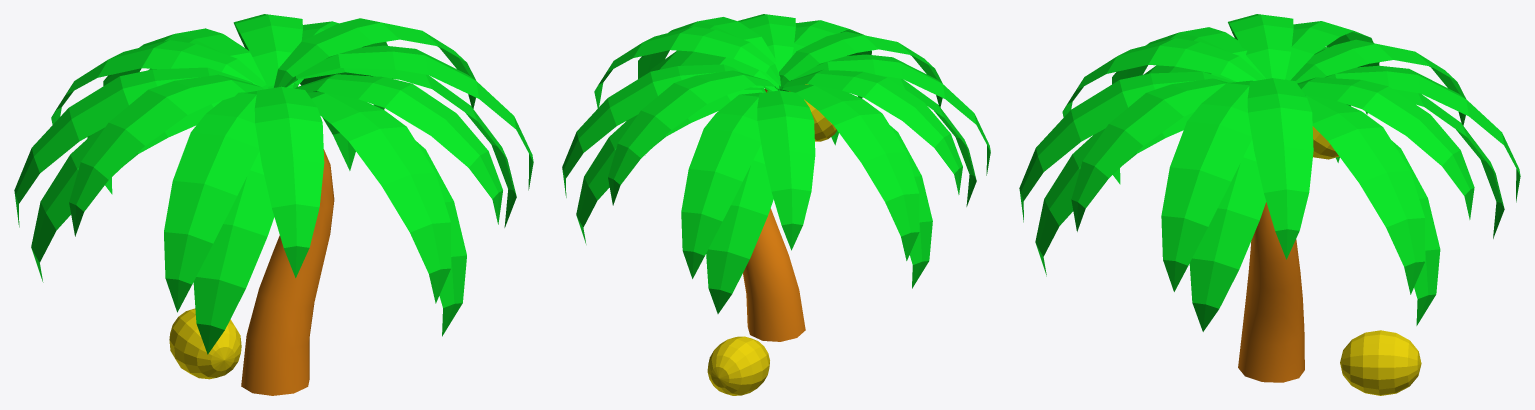
File: yasinoki.fbx
3 renders of one model, left to right at view 1: azimuth 30°, elevation 25°; view 2: azimuth 150°, elevation 25°; view 3: azimuth 270°, elevation 25°, orthographic. The views are drawn at different scales.
Parts seen in each view (by area): view 1: 球, ベジエカーブ; view 2: 球, ベジエカーブ; view 3: 球, ベジエカーブ.
Part boxes in pixels (<box>): 球: <box>14,14,533,379</box>; ベジエカーブ: <box>241,149,334,395</box>; 球: <box>562,14,990,395</box>; ベジエカーブ: <box>743,89,805,341</box>; 球: <box>1019,14,1520,395</box>; ベジエカーブ: <box>1238,202,1304,382</box>.
Bounding box in the file's own units: 346 × 283 × 374.
